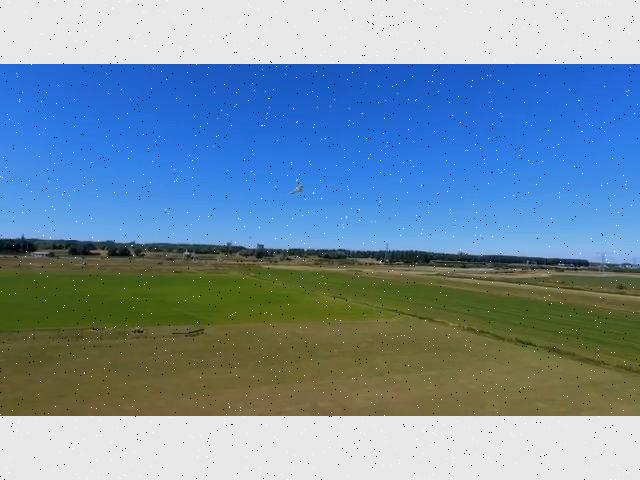Anti-Drone: (275, 175, 317, 206)
